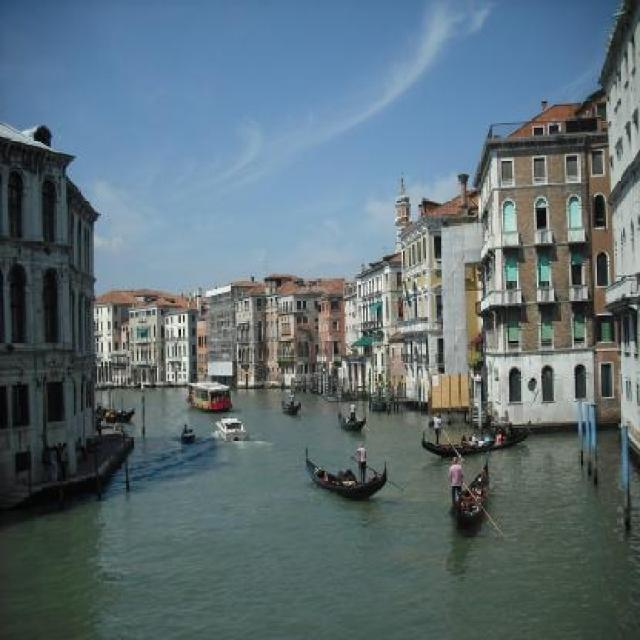ship: (420, 416, 531, 458), (302, 445, 386, 500), (448, 461, 489, 533), (186, 382, 231, 412), (214, 415, 248, 440), (336, 409, 366, 431), (278, 396, 300, 415), (179, 431, 195, 442)
